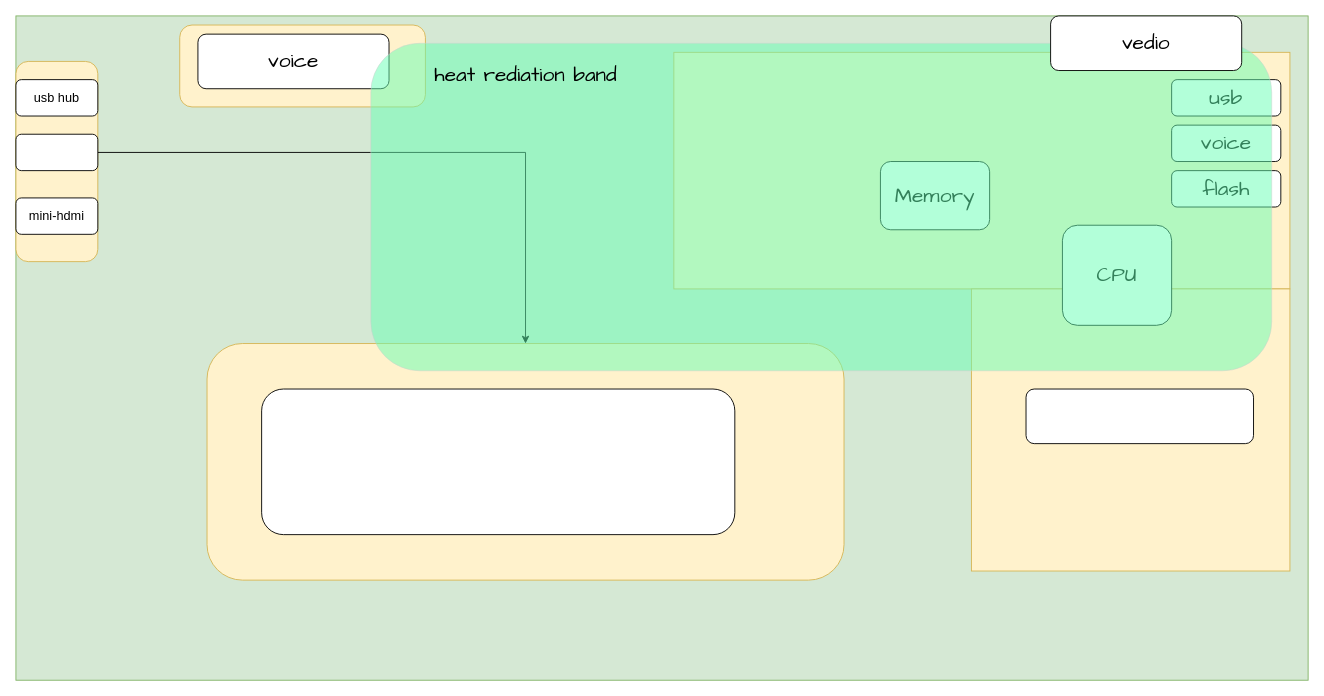
Some shapes in this 1324 by 696 pixel diagram are drawn without their labels. Here are the shapes that lost their labels. From the top down, the box of each, then its label:
(15, 133, 98, 171): power in
(1025, 388, 1254, 444): disk
(261, 388, 735, 535): battery
